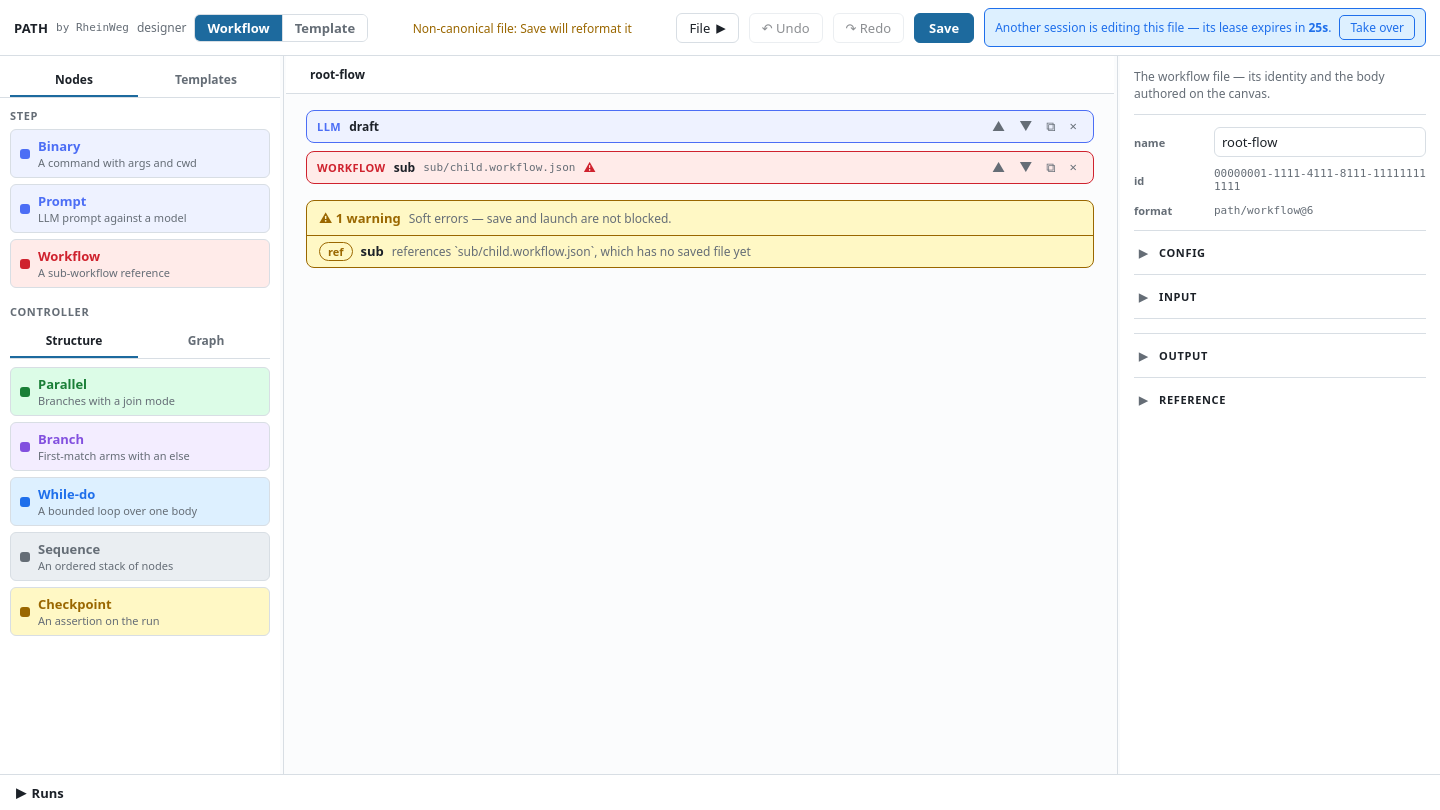
Test: Designer edit-lock lease › shows a confirmation-gated takeover on an acquire 409, then takes over with takeover:true
Check: the text "draft" is shown, box [349, 118, 379, 135]
Check: the text "25s" is shown, box [1308, 19, 1328, 36]
// The takeover is gated behind an explicit confirm.
Click the button "Take over" at (1377, 28), box [1339, 15, 1415, 40]
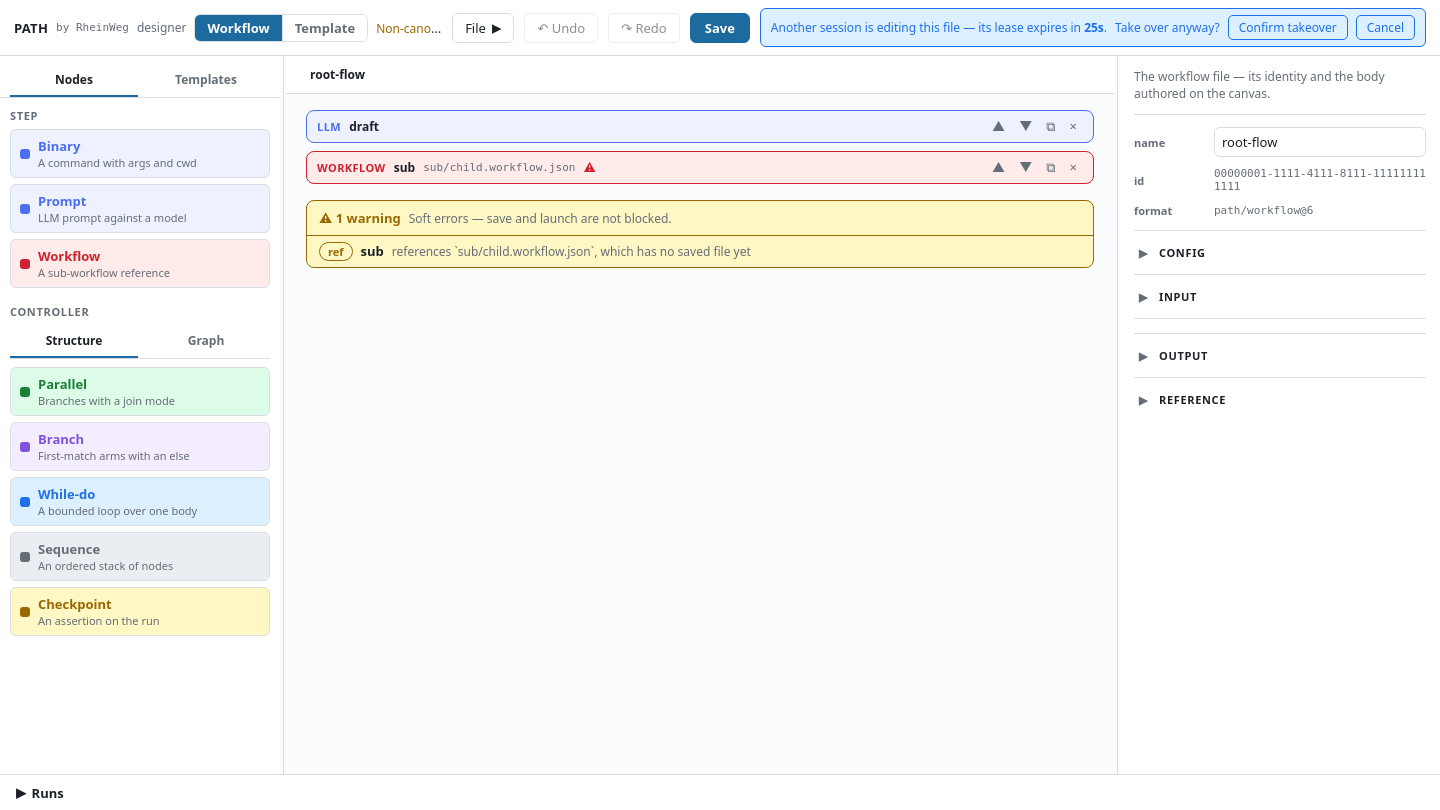
Click the button "Confirm takeover" at (1288, 28), box [1228, 15, 1348, 40]
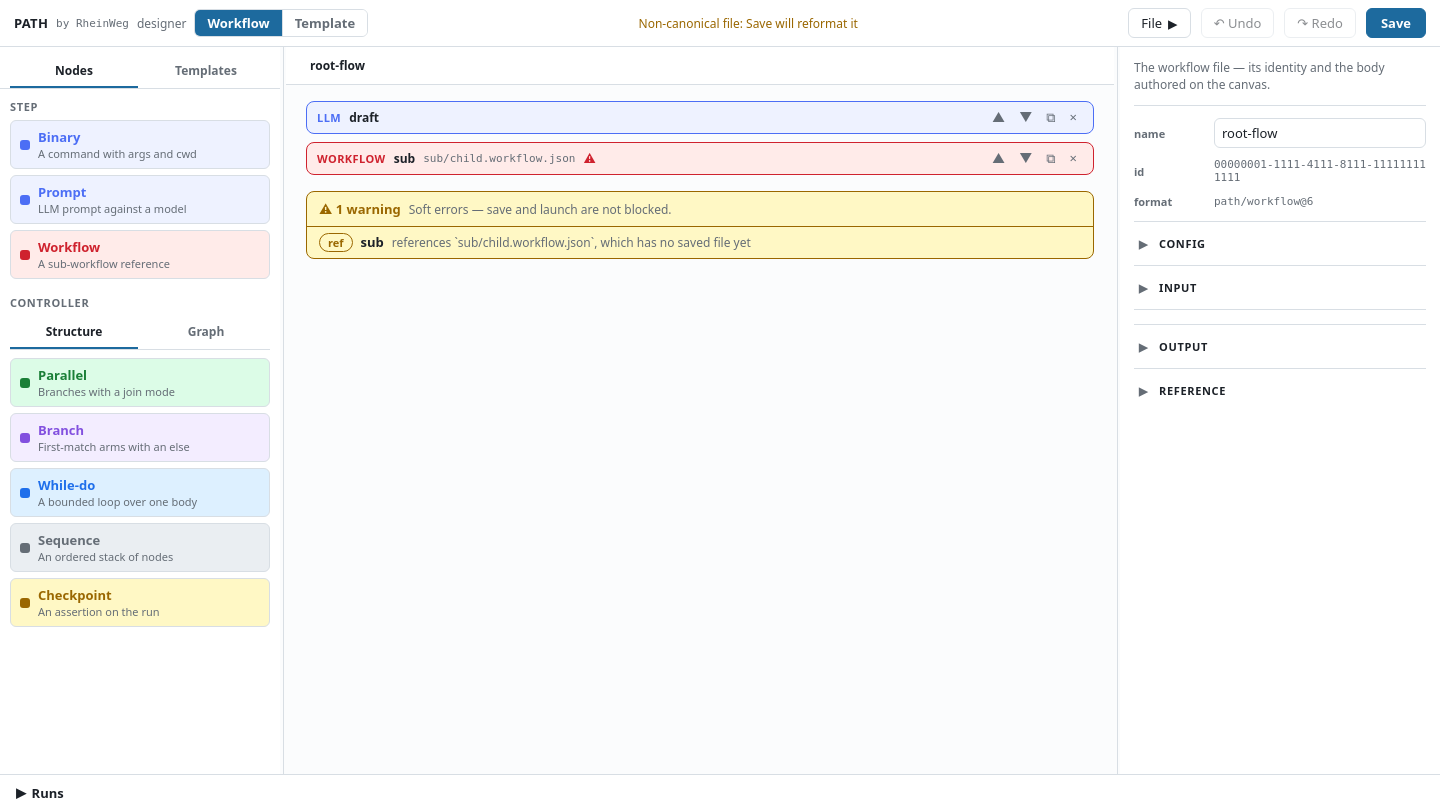
Check: the text "Another session is editing" is gone
